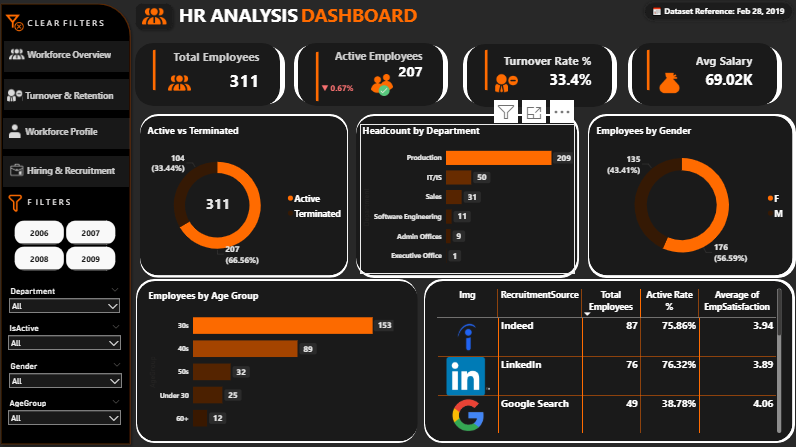

What the dashboard file says about the page in this screenshot:
{"tool":"powerbi","page":{"name":"Workforce Overview","canvas":[1600,900],"ordinal":0},"visuals":[{"type":"shape","box":[596.4,93.5,123.8,116.9],"z":0,"group":"g1"},{"type":"shape","box":[934.5,94.1,123.8,116.9],"z":0,"group":"g2"},{"type":"shape","box":[1264.3,94.7,123.8,116.9],"z":0,"group":"g3"},{"type":"shape","box":[856,560,742,328],"z":0},{"type":"shape","box":[780.6,93.8,124.2,116.7],"z":1000,"group":"g1"},{"type":"shape","box":[1118.7,94.4,124.2,116.7],"z":1000,"group":"g2"},{"type":"shape","box":[1448.5,95,124.2,116.7],"z":1000,"group":"g3"},{"type":"shape","box":[280,560,562,328],"z":1000},{"type":"shape","box":[1272.6,88.3,290,125.8],"z":2000,"group":"g3"},{"type":"shape","box":[604.7,88.8,290,125.8],"z":2000,"group":"g1"},{"type":"shape","box":[942.8,89.4,290,125.8],"z":2000,"group":"g2"},{"type":"shape","box":[1184,230,416,328],"z":2000},{"type":"shape","box":[720,230,446,328],"z":3000},{"type":"shape","box":[287.5,230,416.2,327.5],"z":4000},{"type":"shape","box":[0,0,278.1,900],"z":5000},{"type":"shape","box":[454.2,93.3,124.2,116.7],"z":6000},{"type":"shape","box":[1289.8,0,310,49.6],"z":7000},{"type":"textbox","box":[1302,8,284,48],"z":8000},{"type":"textbox","box":[322.5,0,563.8,77.5],"z":9000},{"type":"shape","box":[270,0,92.5,70],"z":10000},{"type":"advancedSlicerVisual","fields":{"Values":["Dim_Date.Year"]},"box":[31.9,418.1,212.6,150.6],"z":12000},{"type":"textbox","box":[58.5,389.8,118.7,37.2],"z":13000},{"type":"slicer","fields":{"Values":["Dim_Department.Department"]},"box":[16,568,242,72],"z":14000},{"type":"slicer","fields":{"Values":["HR_Fact_Table.IsActive"]},"box":[13.3,642.7,246,72],"z":15000},{"type":"slicer","fields":{"Values":["Dim_Employee.Sex"]},"box":[16,717.3,246,72],"z":16000},{"type":"slicer","fields":{"Values":["Dim_Employee.AgeGroup"]},"box":[14.7,792,246,76],"z":17000},{"type":"actionButton","box":[16,84,246,54],"z":18000},{"type":"actionButton","box":[12,166,246,54],"z":19000},{"type":"actionButton","box":[12,238,246,54],"z":20000},{"type":"actionButton","box":[16,314,242,54],"z":21000},{"type":"image","box":[287.5,10,56.2,48.8],"z":22000},{"type":"shape","box":[278.3,88.3,290,125.8],"z":23000},{"type":"cardVisual","fields":{"Data":["Dax_Measures.Total Employees"]},"box":[284,72,284,140],"z":24000},{"type":"group","id":"g1","title":"KPI Shape","box":[596.4,88.8,310,124.3],"z":25000},{"type":"group","id":"g2","title":"KPI Shape","box":[934.5,89.4,310,124.3],"z":26000},{"type":"group","id":"g3","title":"KPI Shape","box":[1264.3,88.3,308.3,125.8],"z":27000},{"type":"cardVisual","fields":{"Data":["Dax_Measures.Turnover Rate %"]},"box":[948,72,284,140],"z":28000},{"type":"cardVisual","fields":{"Data":["Dax_Measures.Avg Salary"]},"box":[1272.9,72,282.9,140],"z":29000},{"type":"image","box":[1326,142,42,52],"z":30000},{"type":"shape","box":[16,84,250,62],"z":31000},{"type":"shape","box":[16,160,250,62],"z":32000},{"type":"shape","box":[14,237.3,254,62],"z":33000},{"type":"shape","box":[14,314,252,62],"z":34000},{"type":"image","box":[12.8,24.8,49.6,44.3],"z":35000},{"type":"image","box":[17.3,389.8,40.7,37.2],"z":36000},{"type":"cardVisual","fields":{"Data":["Dax_Measures.Active Employees"]},"box":[610,76,284,158],"z":37000},{"type":"image","box":[998,142,46,52],"z":38000},{"type":"image","box":[750,146,44,52],"z":39000},{"type":"image","box":[344,142,46,52],"z":40000},{"type":"shape","box":[287,233.9,414.6,318.9],"z":41000},{"type":"shape","box":[281.7,563.4,561.6,320.7],"z":42000},{"type":"shape","box":[857.5,563.4,735.2,320.7],"z":43000},{"type":"shape","box":[719.3,233.9,442.9,318.9],"z":44000},{"type":"shape","box":[1185.2,233.9,407.5,318.9],"z":45000},{"type":"donutChart","title":"Active vs Terminated","fields":{"Category":["HR_Fact_Table.IsActive"],"Y":["Dax_Measures.Total Employees"]},"box":[298,250,406,300],"z":46000},{"type":"card","fields":{"Values":["Dax_Measures.Total Employees"]},"box":[386,382,116,54],"z":47000},{"type":"clusteredBarChart","title":"Headcount by Department","fields":{"Category":["Dim_Department.Department"],"Y":["Dax_Measures.Total Employees"]},"box":[728.1,249.8,430.5,299.4],"z":48000},{"type":"donutChart","title":"Employees by Gender","fields":{"Y":["Dax_Measures.Total Employees"],"Category":["Dim_Employee.Sex"]},"box":[1196,250,392,300],"z":49000},{"type":"clusteredBarChart","title":"Employees by Age Group","fields":{"Y":["Dax_Measures.Total Employees"],"Category":["Dim_Employee.AgeGroup"]},"box":[300,580,500,300],"z":50000},{"type":"tableEx","title":"Employees by Age Group","fields":{"Values":["Dim_RecruitmentSource.Img","Dim_RecruitmentSource.RecruitmentSource","Dax_Measures.Total Employees","Dax_Measures.Active Rate %","Avg(HR_Fact_Table.EmpSatisfaction)"]},"box":[875.2,574,699.8,299.4],"z":51000},{"type":"textbox","box":[58.5,31.9,171.9,37.2],"z":53000}]}

Visuals, with their boxes in screenshot pixels (x1, y1, x2, y2), scaled from the page's 1600x900 canvas onto the 796x447 screenshot:
shape: select_region(297, 46, 358, 104)
shape: select_region(465, 47, 527, 105)
shape: select_region(629, 47, 691, 105)
shape: select_region(426, 278, 795, 441)
shape: select_region(388, 47, 450, 105)
shape: select_region(557, 47, 618, 105)
shape: select_region(721, 47, 782, 105)
shape: select_region(139, 278, 419, 441)
shape: select_region(633, 44, 777, 106)
shape: select_region(301, 44, 445, 107)
shape: select_region(469, 44, 613, 107)
shape: select_region(589, 114, 795, 277)
shape: select_region(358, 114, 580, 277)
shape: select_region(143, 114, 350, 277)
shape: select_region(0, 0, 138, 446)
shape: select_region(226, 46, 288, 104)
shape: select_region(642, 0, 795, 25)
textbox: select_region(648, 4, 789, 28)
textbox: select_region(160, 0, 441, 38)
shape: select_region(134, 0, 180, 35)
advancedSlicerVisual - Dim_Date.Year: select_region(16, 208, 122, 282)
textbox: select_region(29, 194, 88, 212)
slicer - Dim_Department.Department: select_region(8, 282, 128, 318)
slicer - HR_Fact_Table.IsActive: select_region(7, 319, 129, 355)
slicer - Dim_Employee.Sex: select_region(8, 356, 130, 392)
slicer - Dim_Employee.AgeGroup: select_region(7, 393, 130, 431)
actionButton: select_region(8, 42, 130, 69)
actionButton: select_region(6, 82, 128, 109)
actionButton: select_region(6, 118, 128, 145)
actionButton: select_region(8, 156, 128, 183)
image: select_region(143, 5, 171, 29)
shape: select_region(138, 44, 283, 106)
cardVisual - Dax_Measures.Total Employees: select_region(141, 36, 283, 105)
"KPI Shape" group: select_region(297, 44, 451, 106)
"KPI Shape" group: select_region(465, 44, 619, 106)
"KPI Shape" group: select_region(629, 44, 782, 106)
cardVisual - Dax_Measures.Turnover Rate %: select_region(472, 36, 613, 105)
cardVisual - Dax_Measures.Avg Salary: select_region(633, 36, 774, 105)
image: select_region(660, 71, 681, 96)
shape: select_region(8, 42, 132, 73)
shape: select_region(8, 79, 132, 110)
shape: select_region(7, 118, 133, 149)
shape: select_region(7, 156, 132, 187)
image: select_region(6, 12, 31, 34)
image: select_region(9, 194, 29, 212)
cardVisual - Dax_Measures.Active Employees: select_region(303, 38, 445, 116)
image: select_region(497, 71, 519, 96)
image: select_region(373, 73, 395, 98)
image: select_region(171, 71, 194, 96)
shape: select_region(143, 116, 349, 275)
shape: select_region(140, 280, 420, 439)
shape: select_region(427, 280, 792, 439)
shape: select_region(358, 116, 578, 275)
shape: select_region(590, 116, 792, 275)
"Active vs Terminated" donutChart: select_region(148, 124, 350, 273)
card - Dax_Measures.Total Employees: select_region(192, 190, 250, 217)
"Headcount by Department" clusteredBarChart: select_region(362, 124, 576, 273)
"Employees by Gender" donutChart: select_region(595, 124, 790, 273)
"Employees by Age Group" clusteredBarChart: select_region(149, 288, 398, 437)
"Employees by Age Group" tableEx: select_region(435, 285, 784, 434)
textbox: select_region(29, 16, 115, 34)
